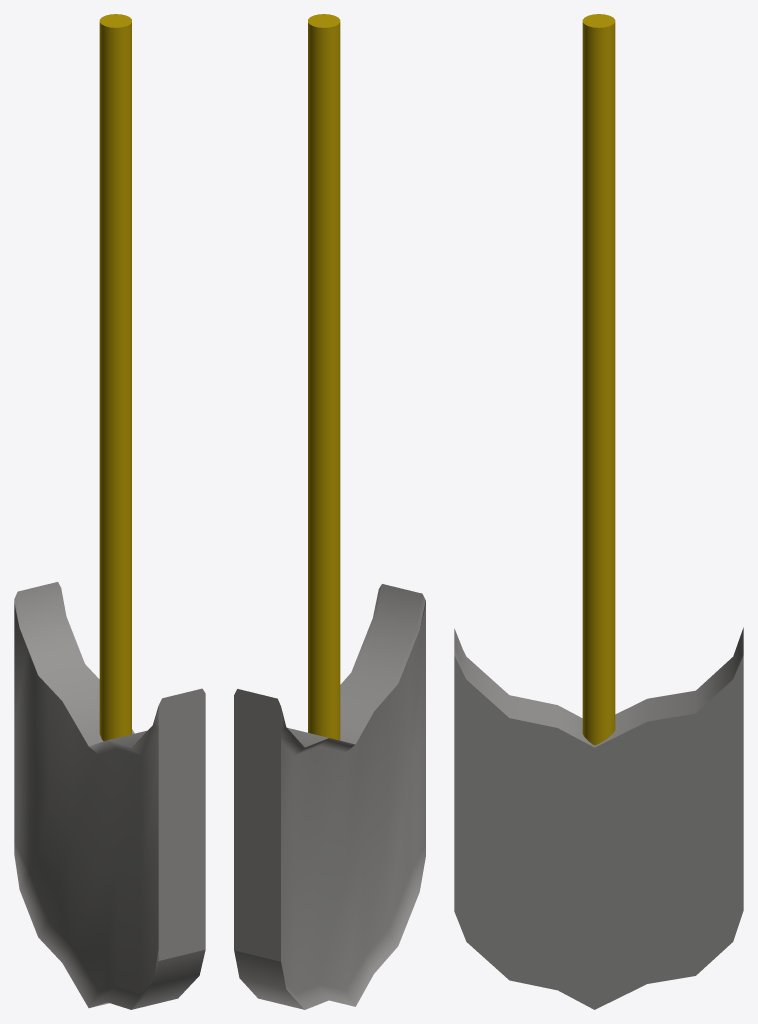
Rendered from shovel.fbx.
3 views of the same model, side by side, from view 1: azimuth 30°, elevation 25°; view 2: azimuth 150°, elevation 25°; view 3: azimuth 270°, elevation 25° (orthographic).
Parts seen in each view (by area): view 1: ShovelHead, ShovelHandle; view 2: ShovelHead, ShovelHandle; view 3: ShovelHead, ShovelHandle.
Part boxes in pixels (box(x1,y1,x2,y2)): ShovelHead: box(14, 582, 205, 1009); ShovelHandle: box(99, 14, 131, 741); ShovelHead: box(234, 584, 425, 1009); ShovelHandle: box(308, 14, 340, 740); ShovelHead: box(454, 627, 743, 1009); ShovelHandle: box(582, 14, 615, 745).
Bounding box in the file's own units: 0.1875 × 3.74 × 1.
